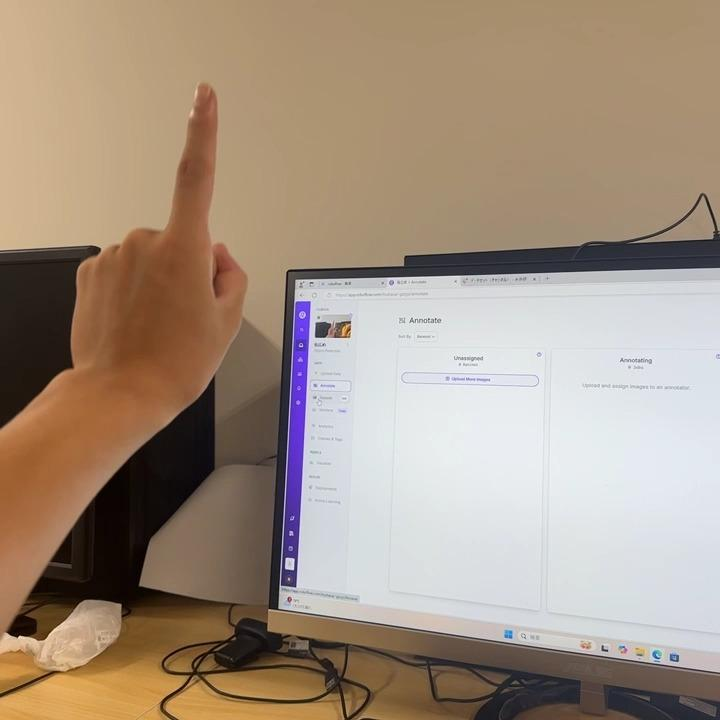without_gloves: (16, 41, 303, 440)
